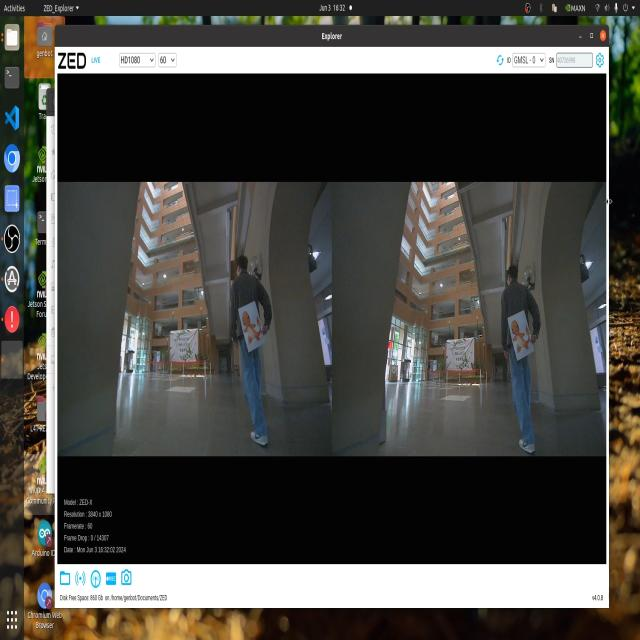red: (238, 301, 260, 340), (506, 324, 528, 352)
